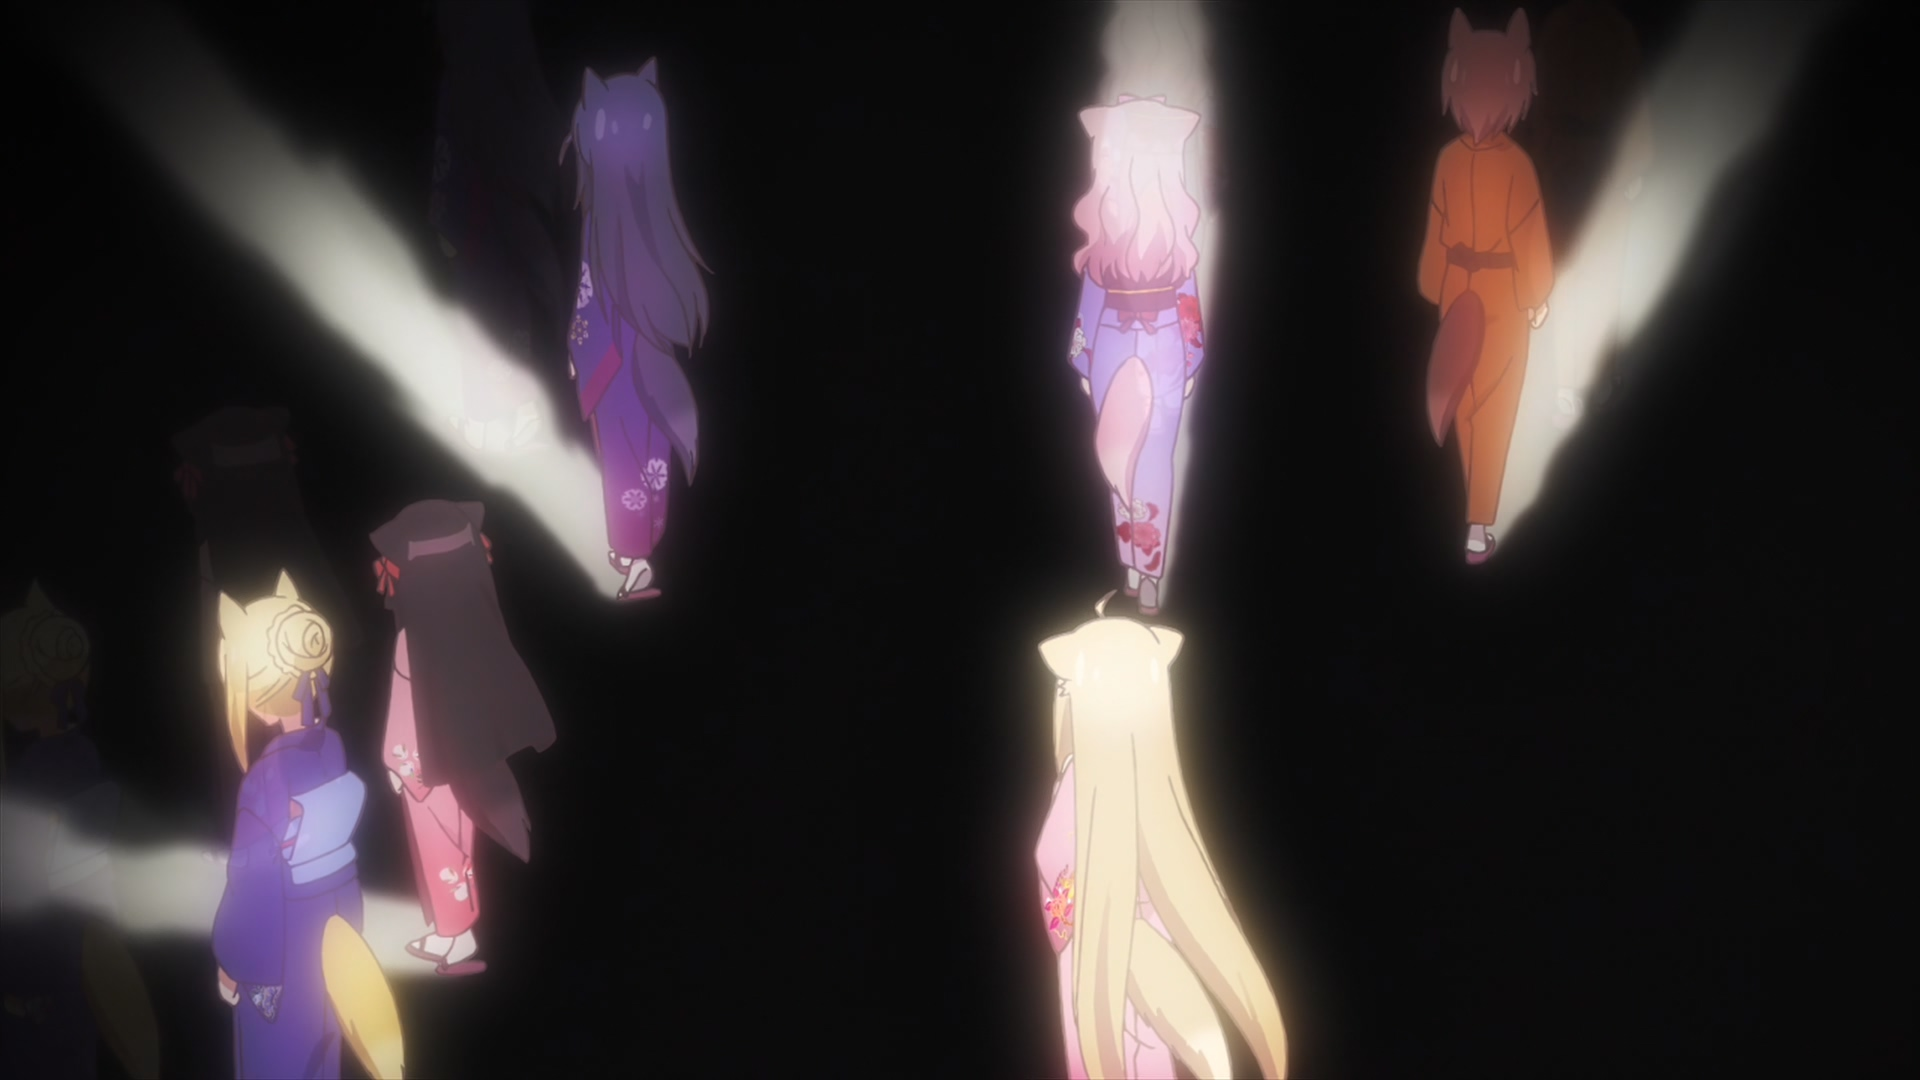枣: (1414, 1, 1557, 564)
柚: (1033, 591, 1287, 1080)
桐: (208, 567, 407, 1080)
樱: (371, 497, 559, 978)
皋: (560, 53, 712, 605)
莲: (1065, 98, 1207, 617)
